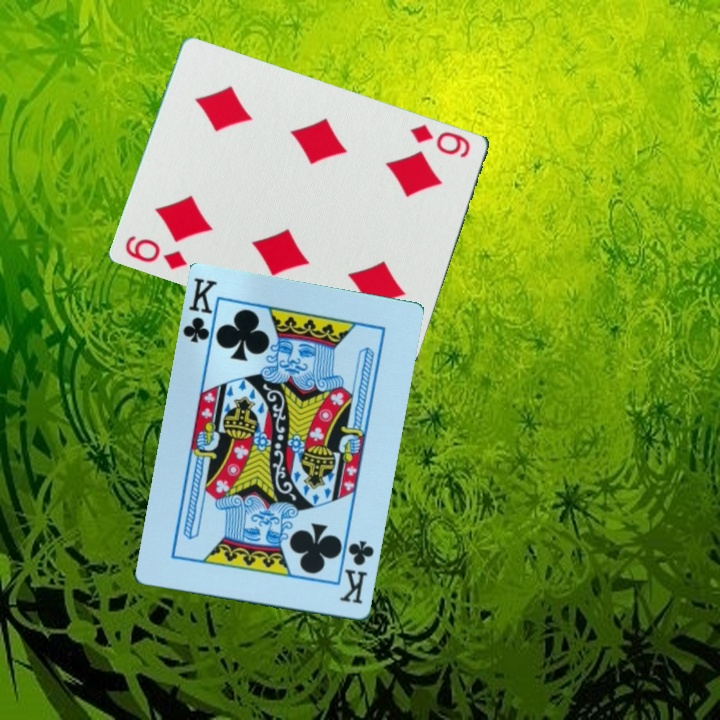6d: (122, 232, 191, 273), (407, 120, 474, 161)
Kc: (179, 275, 221, 356), (336, 537, 378, 607)
